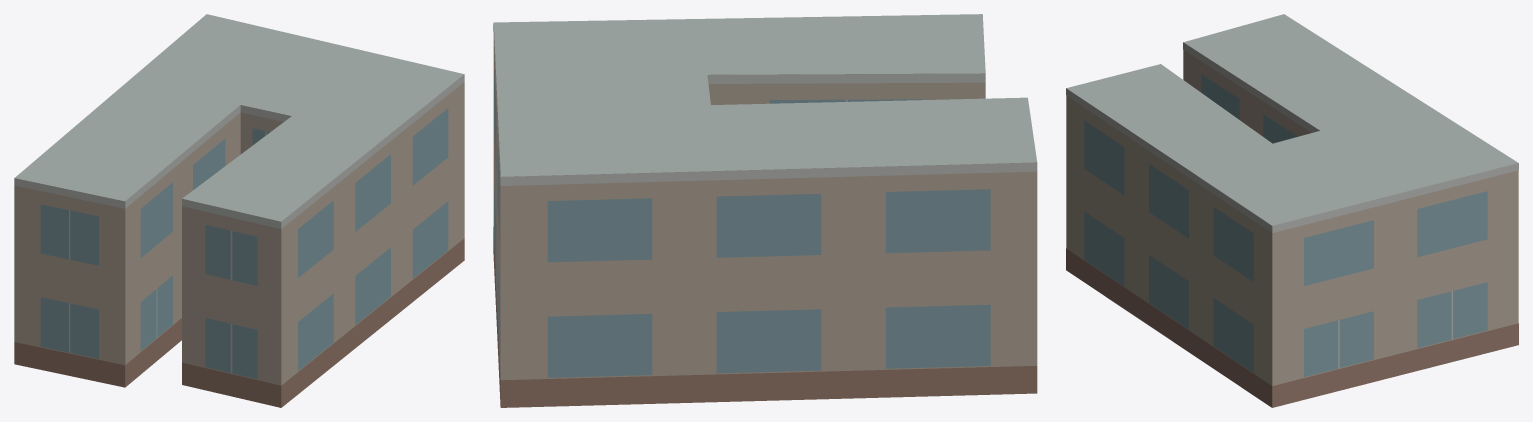
Rendered from survey-upis-32732103.glb.
3 views of the same model, side by side, from view 1: azimuth 30°, elevation 25°; view 2: azimuth 150°, elevation 25°; view 3: azimuth 270°, elevation 25° (orthographic). The views are drawn at different scales.
Visible parts, largest first — view 1: survey-upis-32732103.tmp; view 2: survey-upis-32732103.tmp; view 3: survey-upis-32732103.tmp.
Boxes of the visible parts, bbox=[...] form: survey-upis-32732103.tmp: bbox=[14, 14, 464, 407]; survey-upis-32732103.tmp: bbox=[493, 14, 1037, 407]; survey-upis-32732103.tmp: bbox=[1066, 14, 1518, 407].
Bounding box in the file's own units: 15.24 × 6.1 × 13.76.
